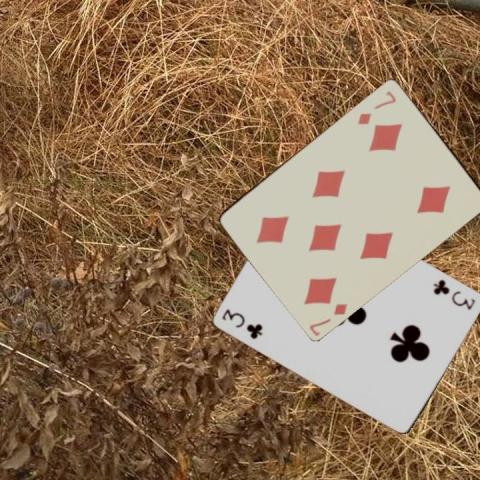3c: (431, 276, 477, 311), (219, 306, 264, 341)
7d: (354, 87, 398, 126), (306, 300, 349, 337)
